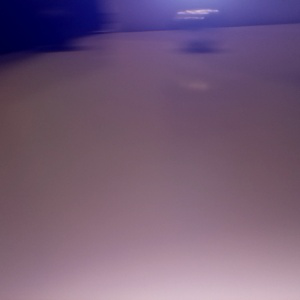alive_ball: (173, 9, 226, 51)
dead_ball: (29, 7, 76, 51)
